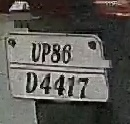1: (65, 76, 79, 97)
4: (39, 71, 54, 97), (53, 72, 67, 98)
6: (60, 43, 73, 64)
7: (77, 76, 88, 100)
8: (51, 41, 61, 66)
D: (24, 70, 38, 98)
P: (42, 42, 51, 65)
U: (30, 42, 41, 64)
